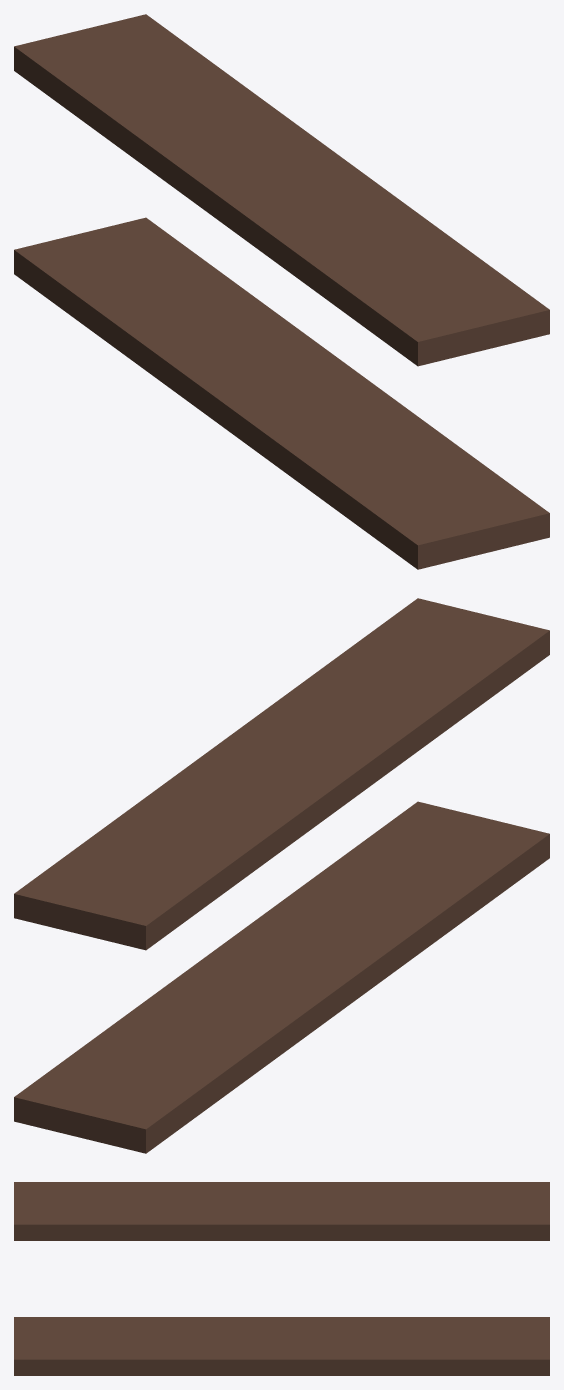
The picture shows the model from 3 angles, top to bottom: view 1: azimuth 30°, elevation 25°; view 2: azimuth 150°, elevation 25°; view 3: azimuth 270°, elevation 25°; orthographic projection. The views are drawn at different scales.
Visible parts, largest first — view 1: ShelfWall_0.5x2x2_0; view 2: ShelfWall_0.5x2x2_0; view 3: ShelfWall_0.5x2x2_0.
Part boxes in pixels (box(x1,y1,x2,y2)): ShelfWall_0.5x2x2_0: box(14, 14, 549, 569); ShelfWall_0.5x2x2_0: box(14, 598, 549, 1153); ShelfWall_0.5x2x2_0: box(14, 1182, 549, 1375).
Size of the model in its own units: 0.34 by 0.56 by 1.8.
